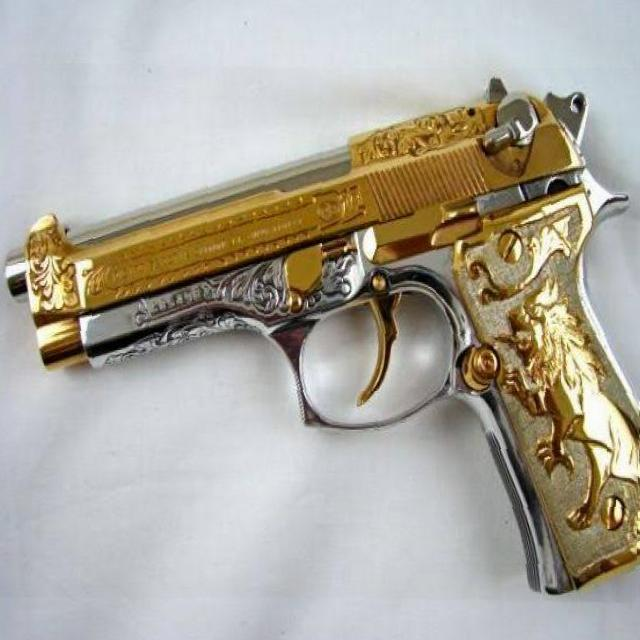rifle: (0, 88, 640, 476), (417, 52, 640, 597), (0, 208, 432, 378)
